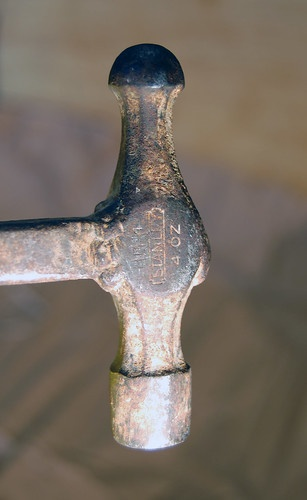hammer: (0, 42, 212, 449)
